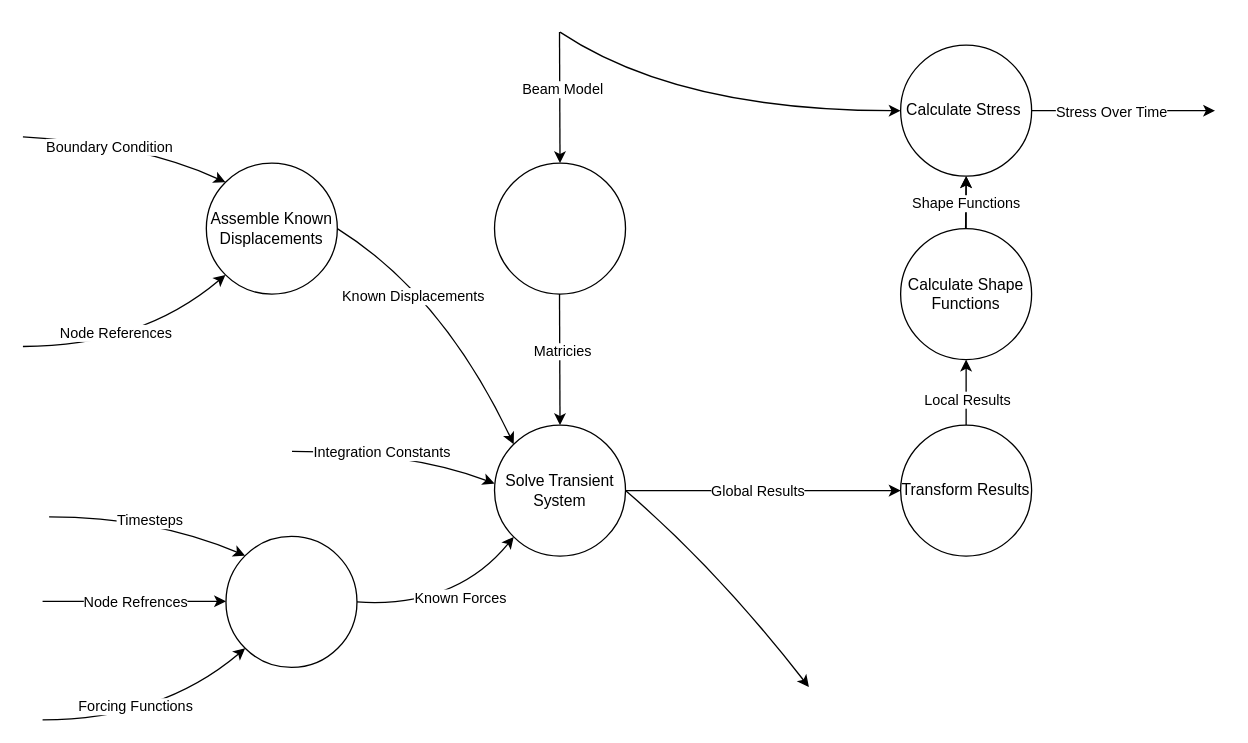
Some shapes in this 1248 by 743 pixel diagram are drawn without their labels. The shapes that lost their labels are listed below. From the top down, each one's centre as x and y in pixels, then its label:
pixel 559 228: Assemble Matrices
pixel 291 601: Assemble Known Forces
